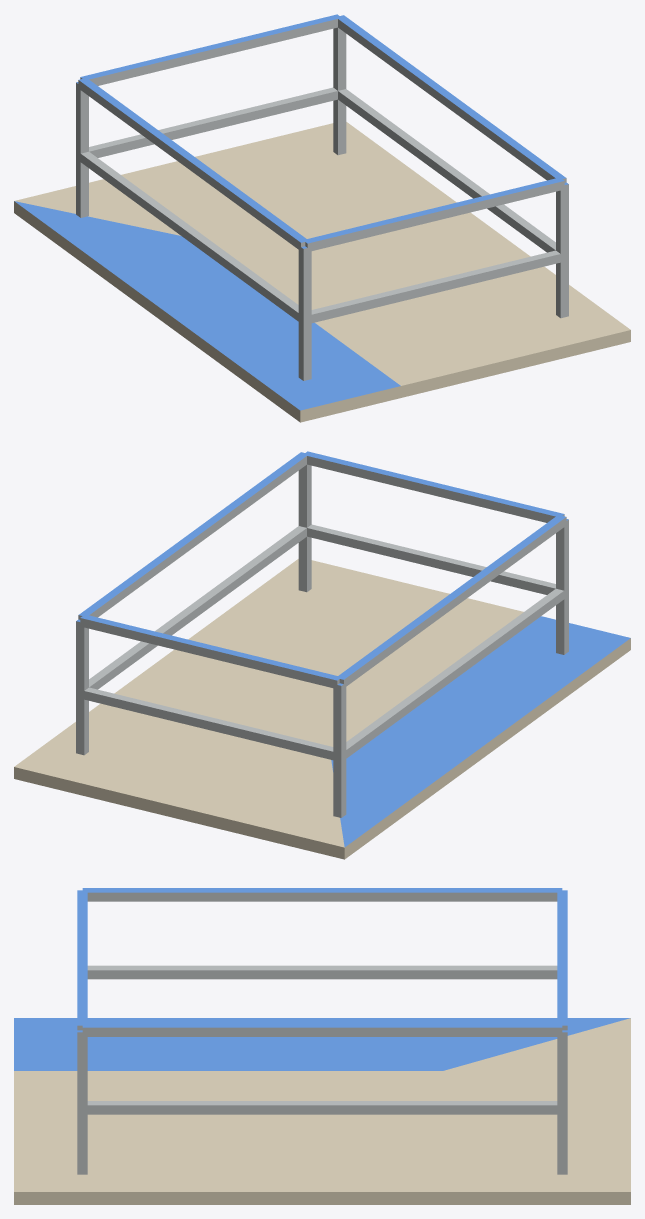
Rendered from meridian_power_plant_scaffolding.glb.
The picture shows the model from 3 angles, top to bottom: view 1: azimuth 30°, elevation 25°; view 2: azimuth 150°, elevation 25°; view 3: azimuth 270°, elevation 25°; orthographic projection. The views are drawn at different scales.
Visible parts, largest first — view 1: hull; view 2: hull; view 3: hull.
Boxes of the visible parts, <box> form: hull: <box>14,14,630,422</box>; hull: <box>14,451,630,859</box>; hull: <box>14,888,630,1204</box>.
Bounding box in the file's own units: 7.2 × 3.09 × 10.8.
